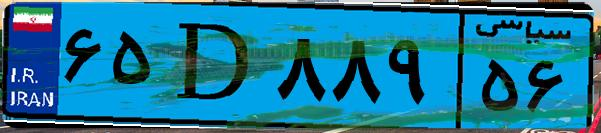5: (475, 38, 525, 113), (110, 28, 158, 98)
6: (57, 26, 110, 100), (525, 38, 570, 115)
8: (270, 28, 330, 110), (330, 28, 385, 110)
9: (385, 28, 445, 110)
D: (158, 12, 270, 120)
